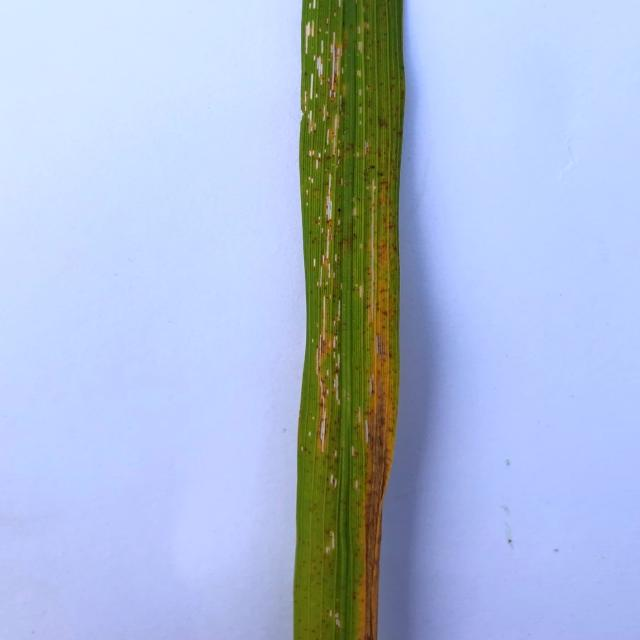tungro: (353, 181, 399, 640)
